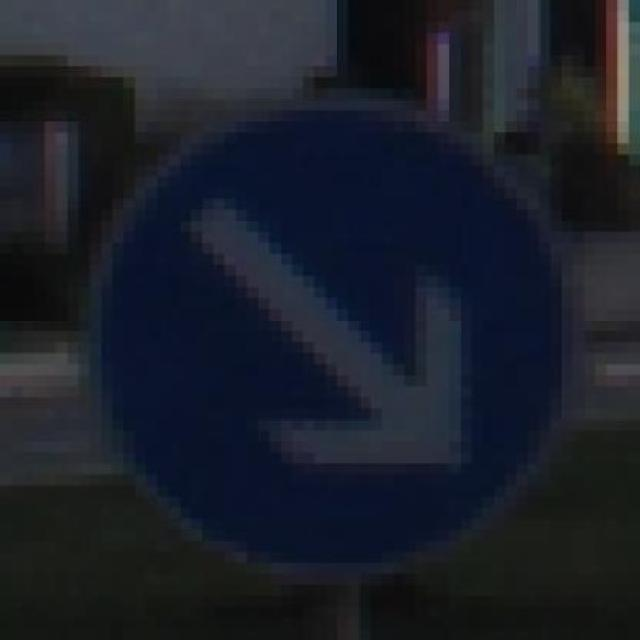Keep-Right: (67, 54, 573, 586)
